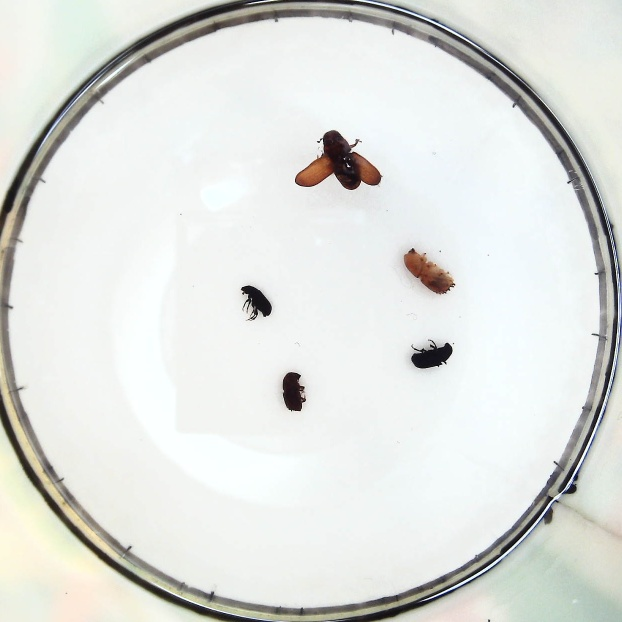armandi: (409, 340, 454, 369)
boerner: (402, 246, 455, 294)
coleoptera: (240, 284, 271, 319)
leconte: (295, 128, 383, 194)
linnaeus: (280, 371, 306, 411)
